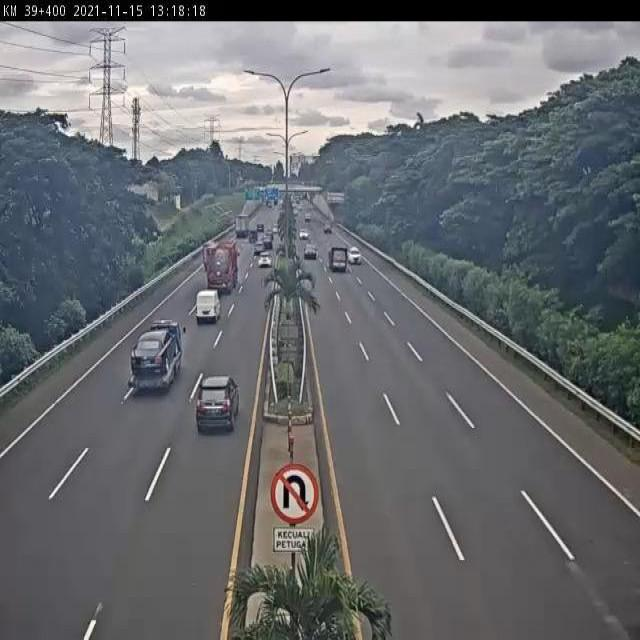bus-s-: (194, 289, 222, 324)
car: (195, 376, 241, 435)
truck-m-: (127, 318, 185, 394)
truck-xl-: (206, 240, 237, 293)
